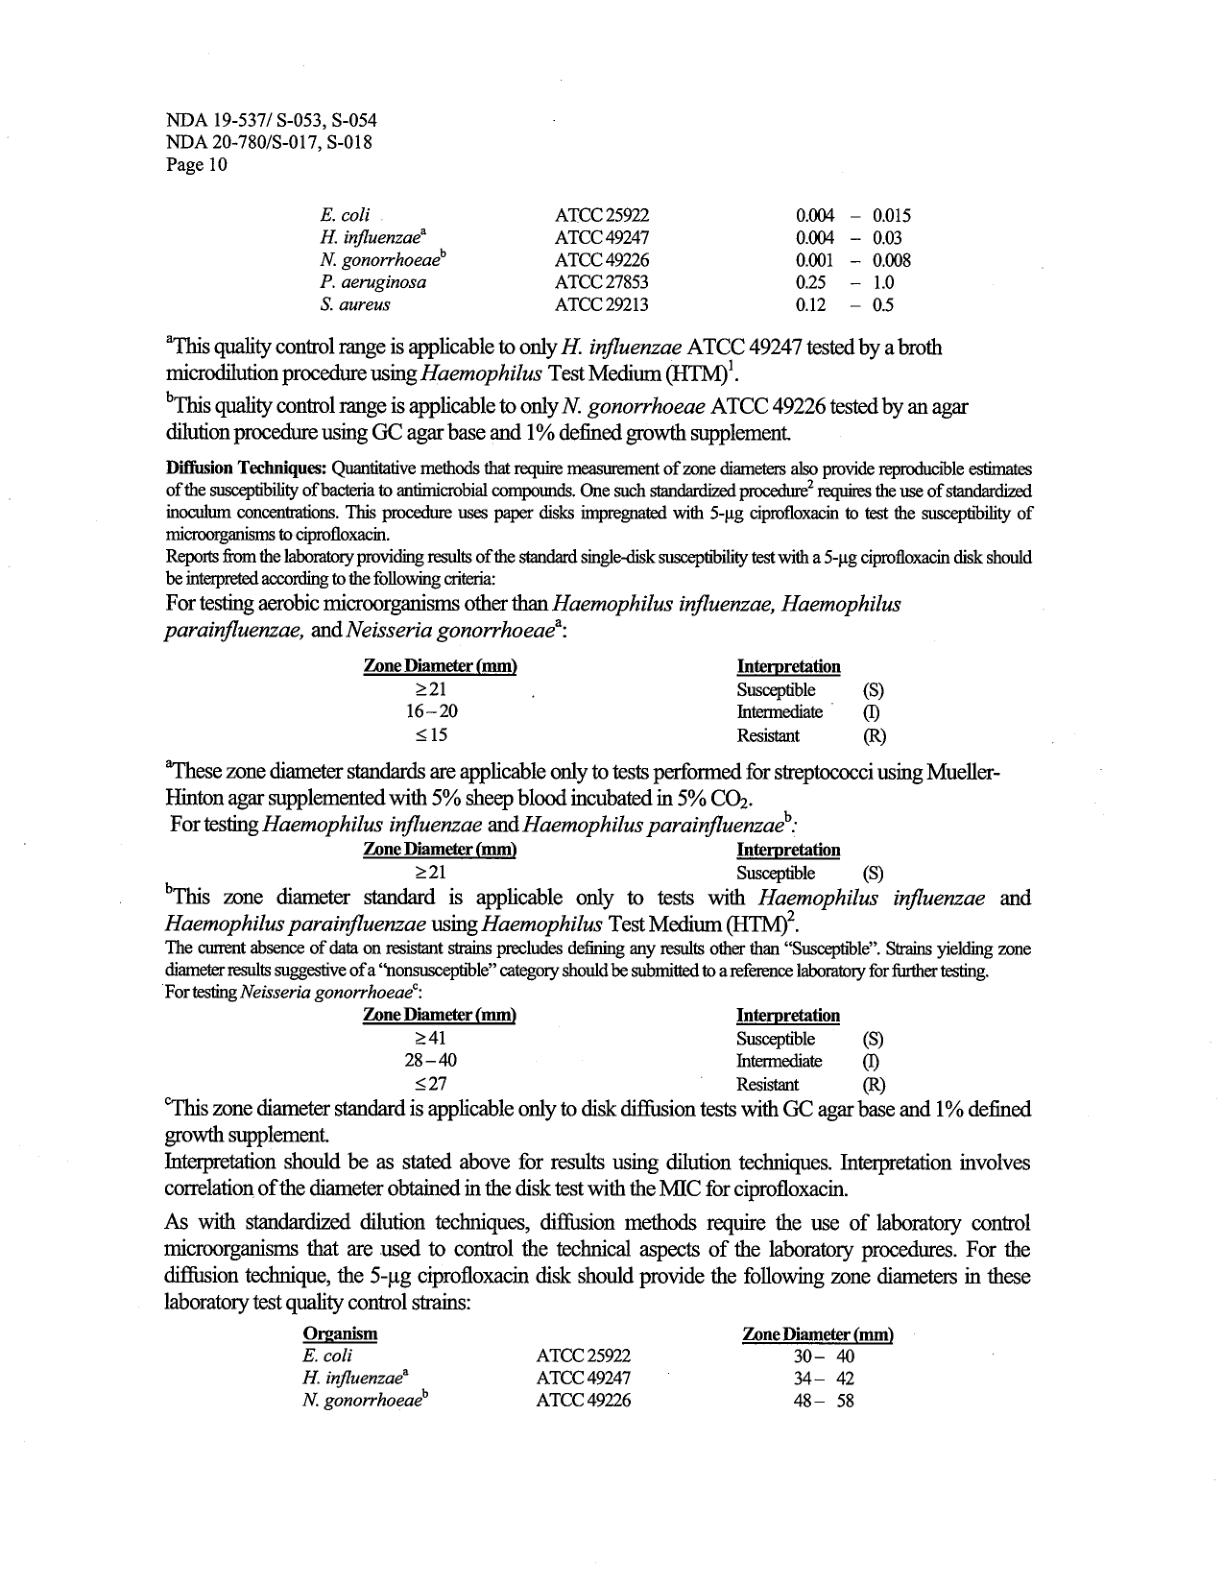nolines: (316, 201, 915, 314), (361, 652, 890, 750), (298, 1323, 894, 1409), (361, 1002, 887, 1095), (363, 836, 885, 883)
